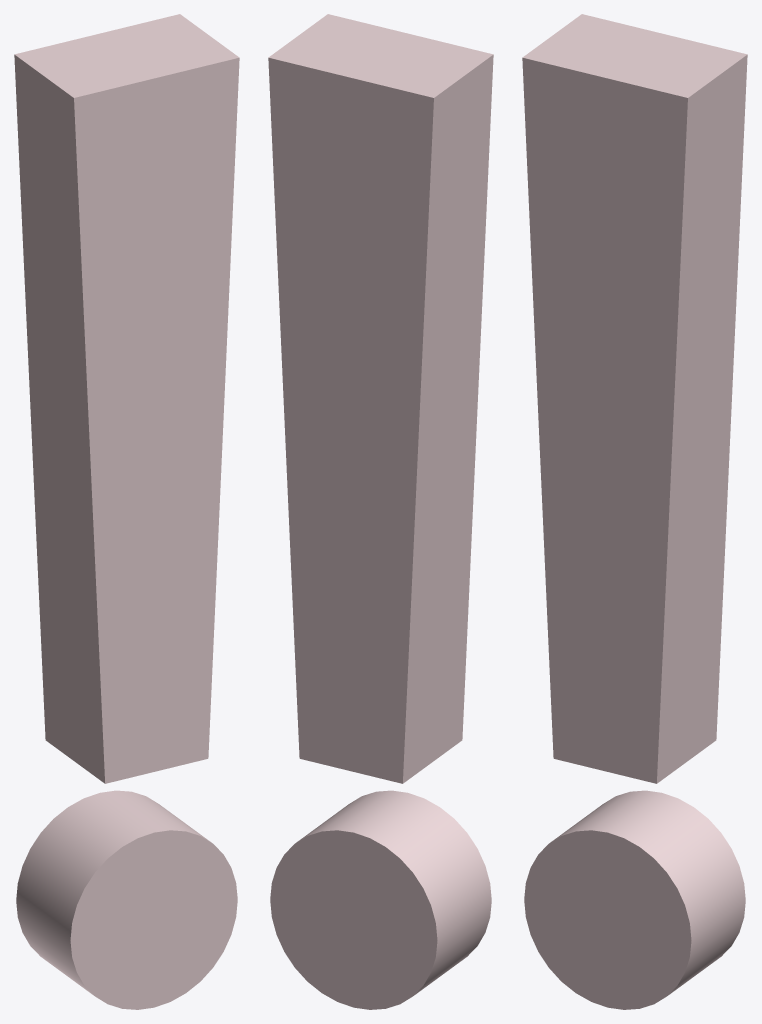
3 renders of one model, left to right at view 1: azimuth 30°, elevation 25°; view 2: azimuth 150°, elevation 25°; view 3: azimuth 330°, elevation 25°, orthographic.
Visible parts, largest first — view 1: 立方体, 円柱; view 2: 立方体, 円柱; view 3: 立方体, 円柱.
Boxes of the visible parts, x1,y1,x2,y2 form: 立方体: [14, 14, 239, 783]; 円柱: [16, 790, 237, 1009]; 立方体: [268, 14, 493, 783]; 円柱: [270, 790, 491, 1009]; 立方体: [522, 14, 747, 783]; 円柱: [524, 790, 745, 1009].
Bounding box in the file's own units: 126 × 673 × 78.01.
